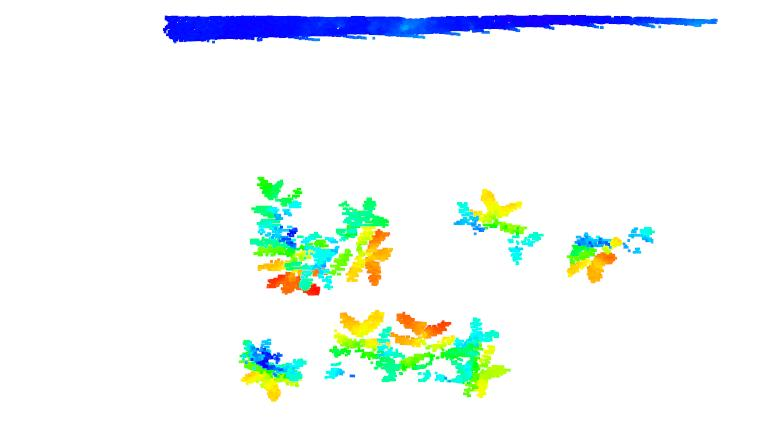chickpea: (253, 174, 324, 298), (315, 194, 396, 288), (453, 189, 542, 264), (562, 222, 660, 283), (323, 308, 399, 381), (233, 335, 310, 403), (392, 308, 454, 386), (450, 318, 512, 395)
